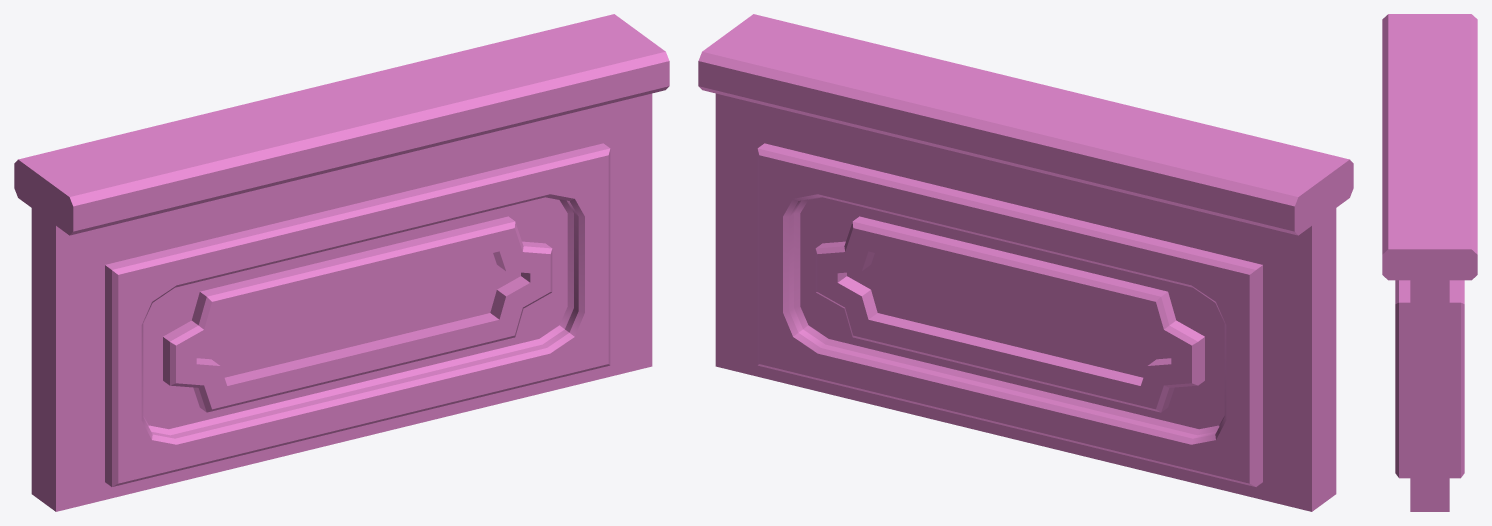
File: ENV_HAU_WALLTOPDOUBLE_MODEL.fbx
3 renders of one model, left to right at view 1: azimuth 30°, elevation 25°; view 2: azimuth 150°, elevation 25°; view 3: azimuth 270°, elevation 25°, orthographic. The views are drawn at different scales.
Parts seen in each view (by area): view 1: ENV_HAU_WALLTOPDOUBLE_MODEL; view 2: ENV_HAU_WALLTOPDOUBLE_MODEL; view 3: ENV_HAU_WALLTOPDOUBLE_MODEL.
Boxes of the visible parts, <box> form: ENV_HAU_WALLTOPDOUBLE_MODEL: <box>14,14,669,511</box>; ENV_HAU_WALLTOPDOUBLE_MODEL: <box>698,14,1353,511</box>; ENV_HAU_WALLTOPDOUBLE_MODEL: <box>1382,14,1477,511</box>.
Size of the model in its own units: 100 by 52.04 by 17.08.
